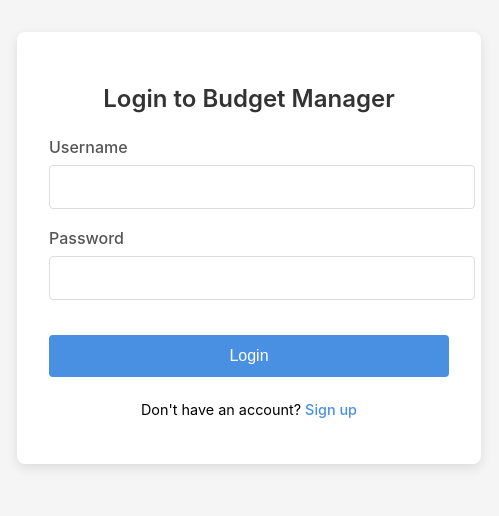
Test case: Login Component › shows error when login fails
The image size is (499, 516).
Fill in the form
Type "testuser" into the field labelled "Username" at (262, 187), box left=49, top=165, right=475, bottom=209
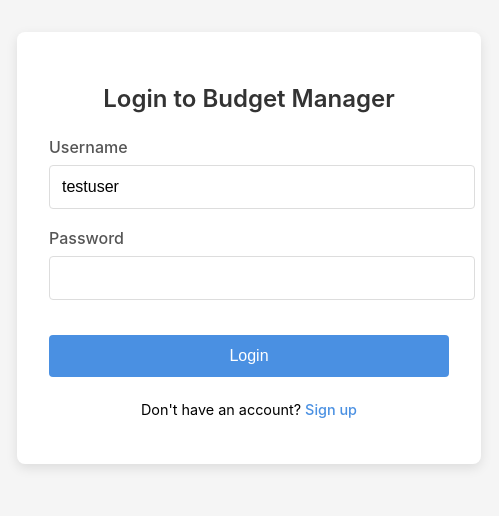
Type "wrongpassword" into the password field labelled "Password" at (262, 278), box left=49, top=256, right=475, bottom=300
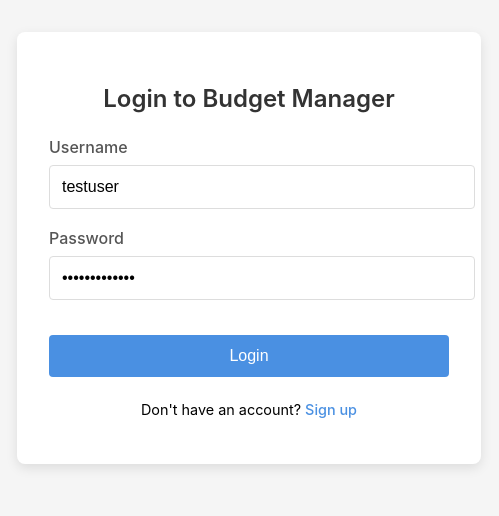
Submit the form
Click the button "Login" at (249, 356), box left=49, top=335, right=449, bottom=377
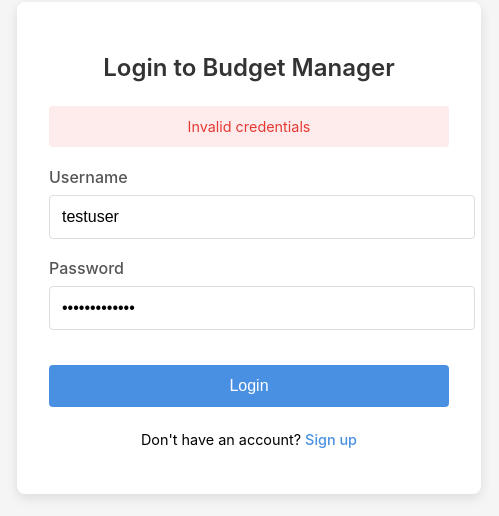
Check: the text "Invalid credentials" is shown, box left=49, top=106, right=449, bottom=148
